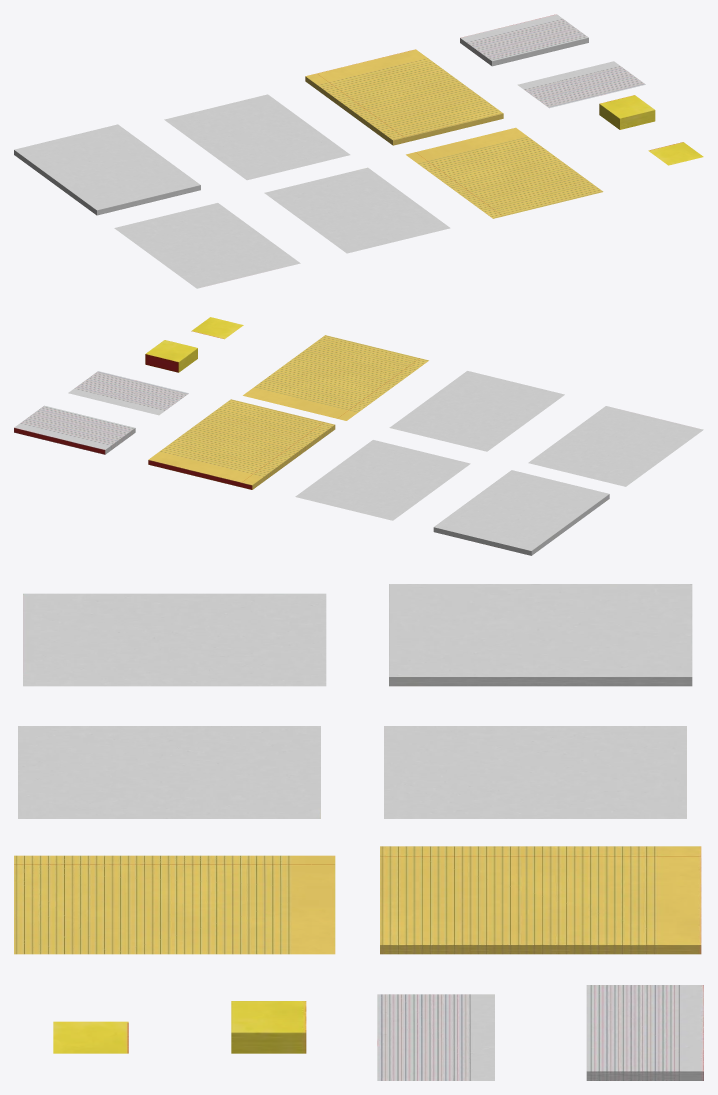
File: office_notepads.glb
3 views of the same model, one above another, from view 1: azimuth 30°, elevation 25°; view 2: azimuth 150°, elevation 25°; view 3: azimuth 270°, elevation 25° (orthographic). The views are drawn at different scales.
Parts seen in each view (by area): view 1: office_notepads_yellow_sheet; view 2: office_notepads_yellow_sheet; view 3: office_notepads_yellow_sheet.
Part boxes in pixels (<box>): office_notepads_yellow_sheet: <box>14,14,703,288</box>; office_notepads_yellow_sheet: <box>14,317,703,555</box>; office_notepads_yellow_sheet: <box>14,584,703,1080</box>.
Bounding box in the file's own units: 1.1 × 0.0219 × 0.6598.
Materials: 1 (1 with a texture image).
